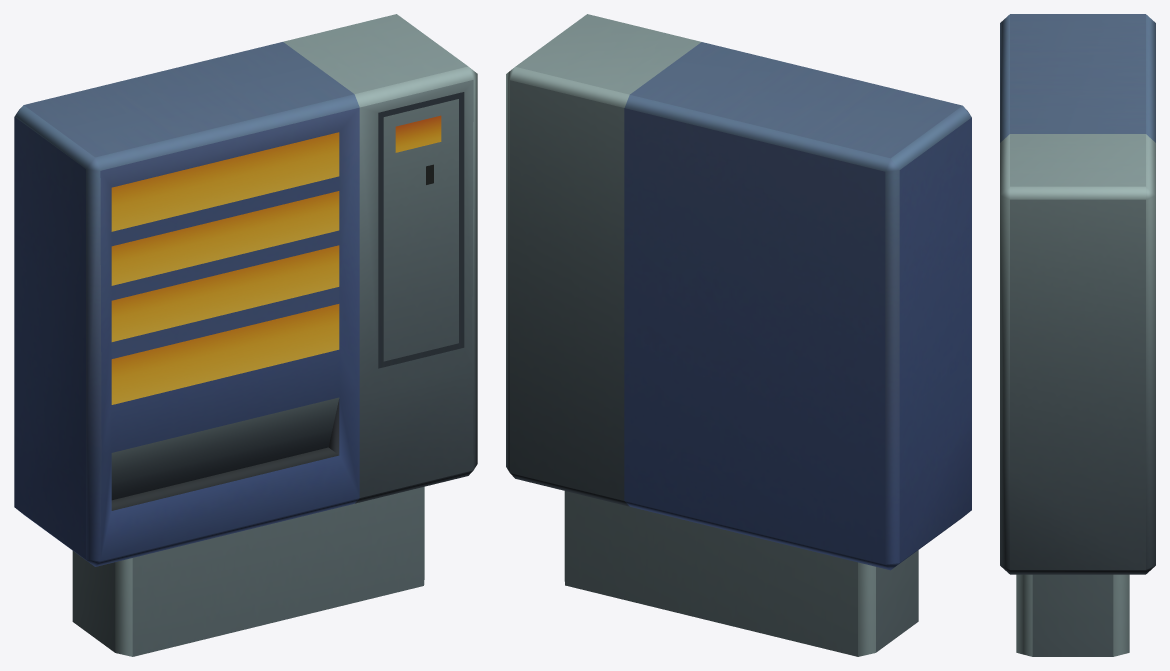
Rendered from cigarette_vending_machine4.fbx.
3 renders of one model, left to right at view 1: azimuth 30°, elevation 25°; view 2: azimuth 150°, elevation 25°; view 3: azimuth 270°, elevation 25°, orthographic. The views are drawn at different scales.
Visible parts, largest first — view 1: Cigarette_Vending_Machine4; view 2: Cigarette_Vending_Machine4; view 3: Cigarette_Vending_Machine4.
Boxes of the visible parts, box(x1,y1,x2,y2) form: Cigarette_Vending_Machine4: box(14, 14, 477, 656); Cigarette_Vending_Machine4: box(506, 14, 971, 656); Cigarette_Vending_Machine4: box(1000, 14, 1155, 656).
Size of the model in its own units: 100 by 125 by 36.35.
